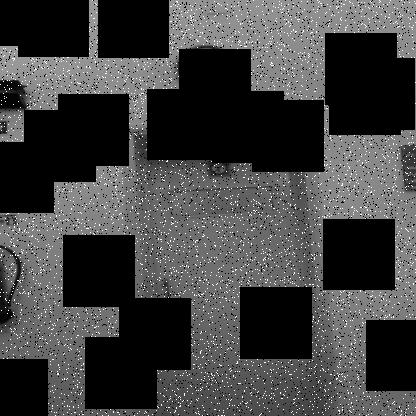Porte: (116, 118, 338, 415)
